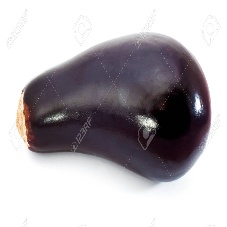eggplant: (17, 30, 212, 186)
